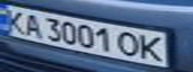0: (57, 19, 78, 46), (75, 21, 93, 50)
1: (93, 25, 115, 53)
3: (39, 15, 63, 43)
A: (21, 11, 45, 38)
K: (136, 33, 169, 63), (0, 7, 30, 34)
O: (115, 29, 145, 58)
